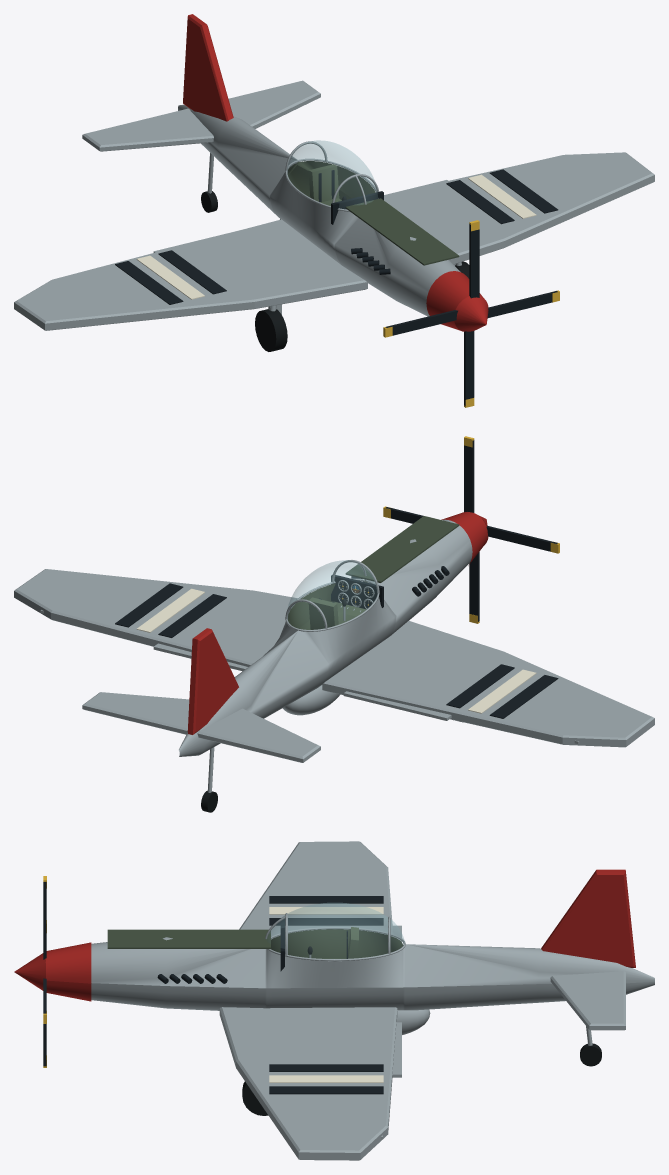
3 renders of one model, top to bottom at view 1: azimuth 30°, elevation 25°; view 2: azimuth 150°, elevation 25°; view 3: azimuth 270°, elevation 25°, orthographic. The views are drawn at different scales.
Visible parts, largest first — view 1: wing--1, wing-1, fuselage, bubble-canopy, tailplane--1, vertical-fin, blade (×4), anti-glare-panel, tailplane-1, red-engine-cowl, fuselage-interior, main-wheel (+8 smaller); view 2: wing--1, fuselage, wing-1, bubble-canopy, vertical-fin, tailplane--1, tailplane-1, anti-glare-panel, blade (×3), fuselage-interior, red-engine-cowl, ventral-radiator (+9 smaller); view 3: fuselage, wing-1, wing--1, vertical-fin, bubble-canopy, tailplane-1, anti-glare-panel, fuselage-interior, red-engine-cowl, recognition-stripe-1-2, recognition-stripe--1-2, recognition-stripe-1-0 (+6 smaller).
Boxes of the visible parts, left/top/right/bottom form: wing--1: left=14, top=219, right=367, bottom=330; wing-1: left=384, top=152, right=654, bottom=264; fuselage: left=178, top=104, right=460, bottom=316; bubble-canopy: left=287, top=140, right=377, bottom=208; tailplane--1: left=82, top=108, right=213, bottom=151; vertical-fin: left=183, top=14, right=233, bottom=121; blade (×4): left=385, top=224, right=557, bottom=405; anti-glare-panel: left=345, top=198, right=459, bottom=265; tailplane-1: left=228, top=80, right=320, bottom=128; red-engine-cowl: left=426, top=271, right=482, bottom=330; fuselage-interior: left=287, top=161, right=375, bottom=200; main-wheel: left=255, top=309, right=287, bottom=351; wing--1: left=322, top=621, right=654, bottom=747; fuselage: left=179, top=519, right=472, bottom=756; wing-1: left=14, top=569, right=297, bottom=666; bubble-canopy: left=287, top=560, right=377, bottom=629; vertical-fin: left=187, top=628, right=238, bottom=734; tailplane--1: left=197, top=708, right=320, bottom=762; tailplane-1: left=82, top=692, right=189, bottom=734; anti-glare-panel: left=345, top=516, right=459, bottom=582; blade (×3): left=464, top=440, right=557, bottom=621; fuselage-interior: left=288, top=581, right=367, bottom=629; red-engine-cowl: left=441, top=512, right=487, bottom=565; ventral-radiator: left=282, top=685, right=340, bottom=715; fuselage: left=91, top=937, right=654, bottom=1010; wing-1: left=219, top=1007, right=397, bottom=1160; wing--1: left=239, top=841, right=393, bottom=939; vertical-fin: left=541, top=869, right=635, bottom=967; bubble-canopy: left=266, top=903, right=404, bottom=958; tailplane-1: left=550, top=971, right=625, bottom=1030; anti-glare-panel: left=107, top=929, right=270, bottom=948; fuselage-interior: left=271, top=929, right=403, bottom=958; red-engine-cowl: left=45, top=942, right=91, bottom=1001; recognition-stripe-1-2: left=269, top=1086, right=383, bottom=1094; recognition-stripe--1-2: left=269, top=896, right=383, bottom=903; recognition-stripe-1-0: left=269, top=1064, right=383, bottom=1071.
Bounding box in the file's own units: 11.27 × 3.3 × 9.81.
